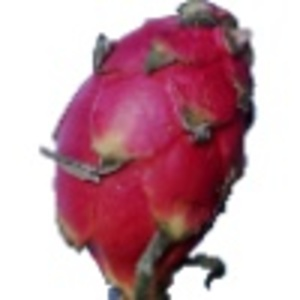pitaia: (42, 1, 260, 300)
